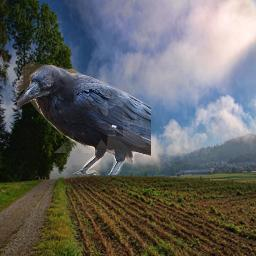Crow: (15, 62, 151, 175)
